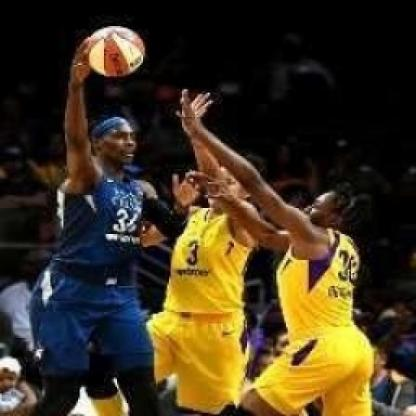basketball: (82, 23, 149, 78)
